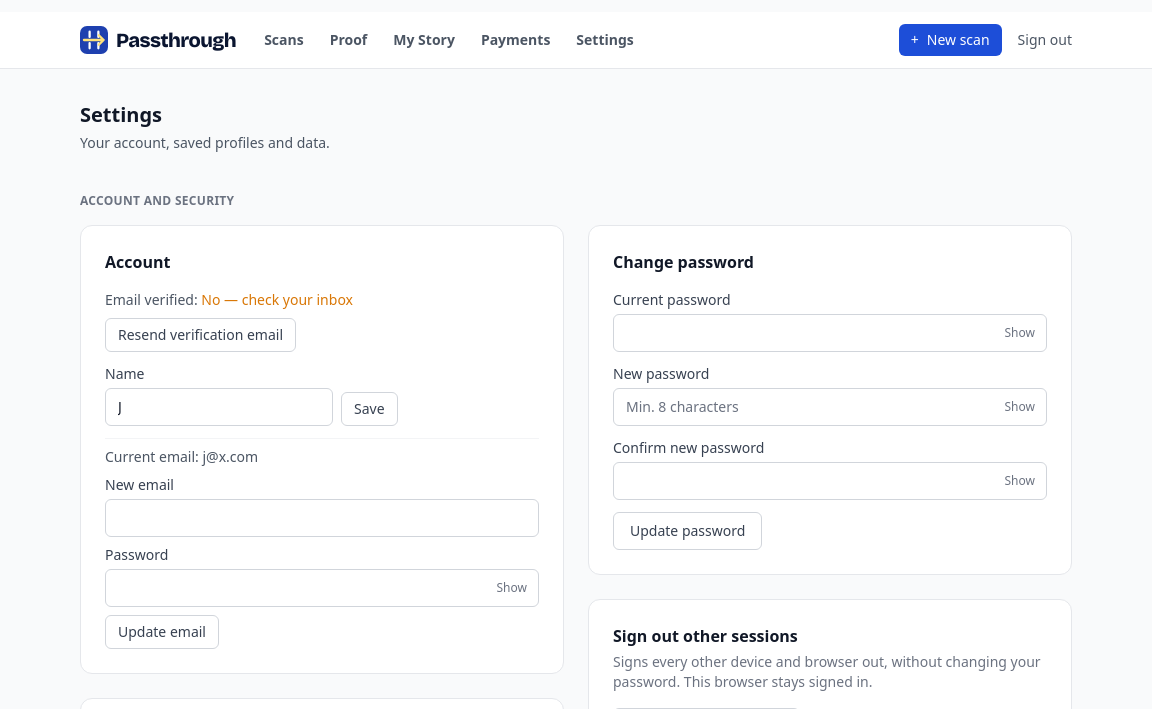
it: "Already verified." re-syncs the account › refreshes the cached user on a 400 Already verified, not on other failures
Click the button "Resend verification email". click: (200,335)
box: x1=105 y1=318 x2=296 y2=352
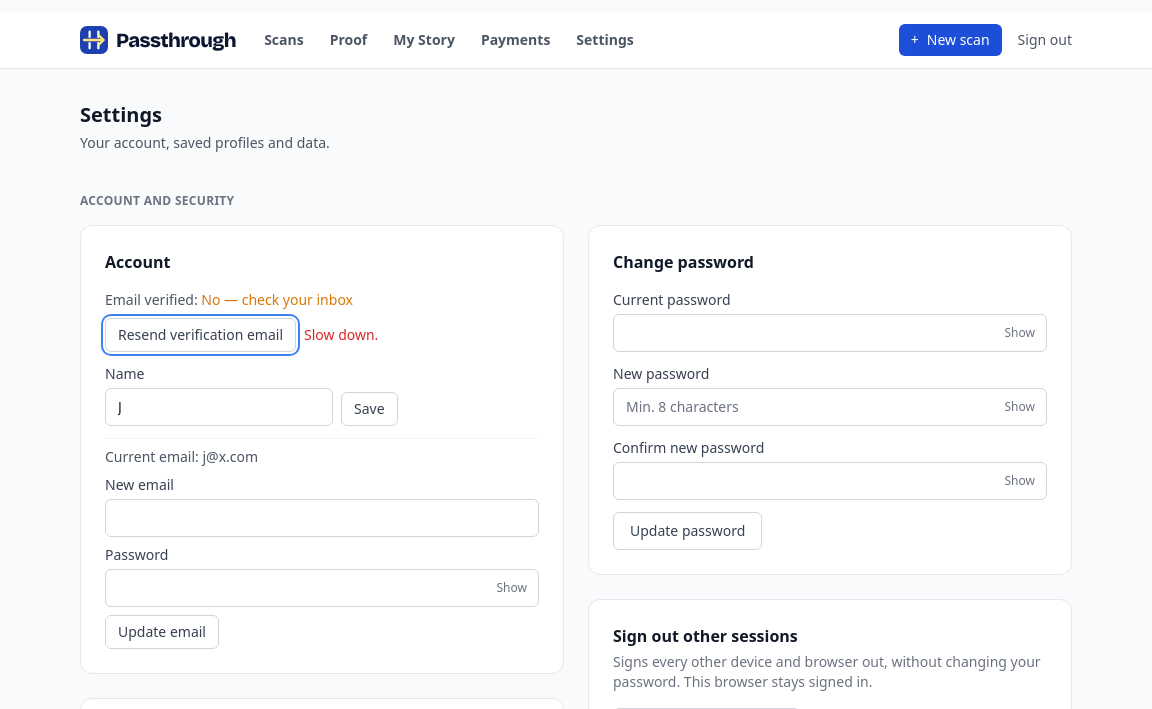
Result: the text "Slow down." is shown at x1=304 y1=325 x2=378 y2=345
Click the button "Resend verification email". click: (200,335)
box: x1=105 y1=318 x2=296 y2=352
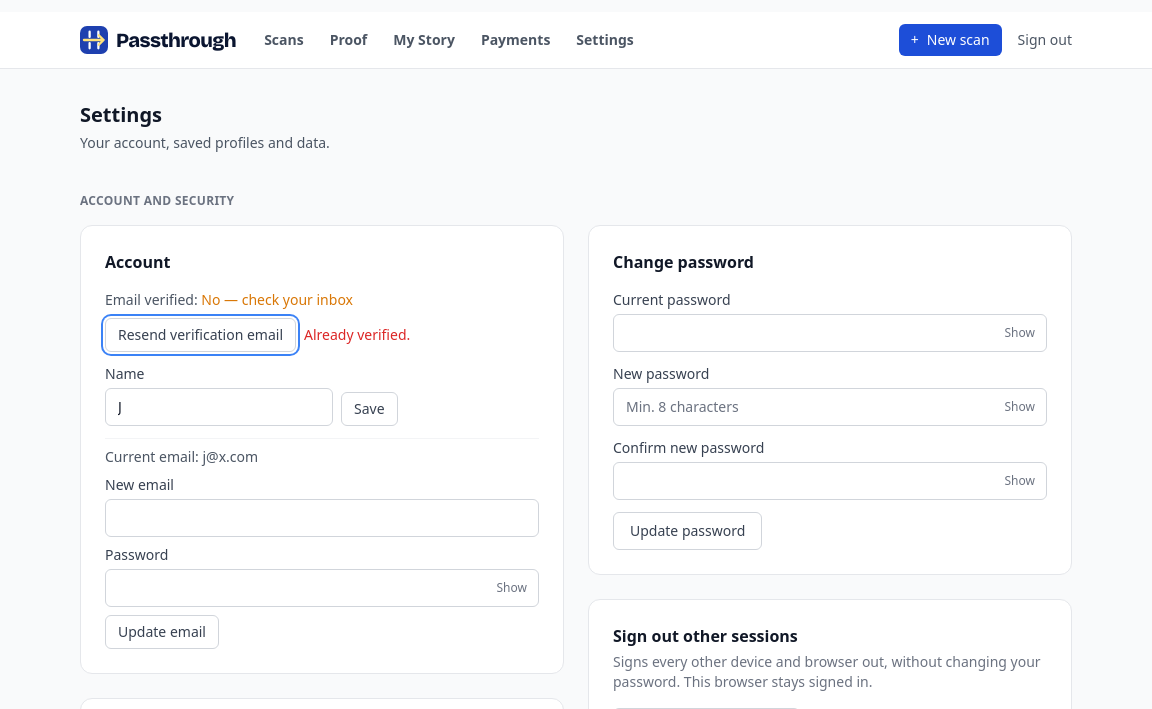
Result: the text "Already verified." is shown at x1=304 y1=325 x2=410 y2=345
